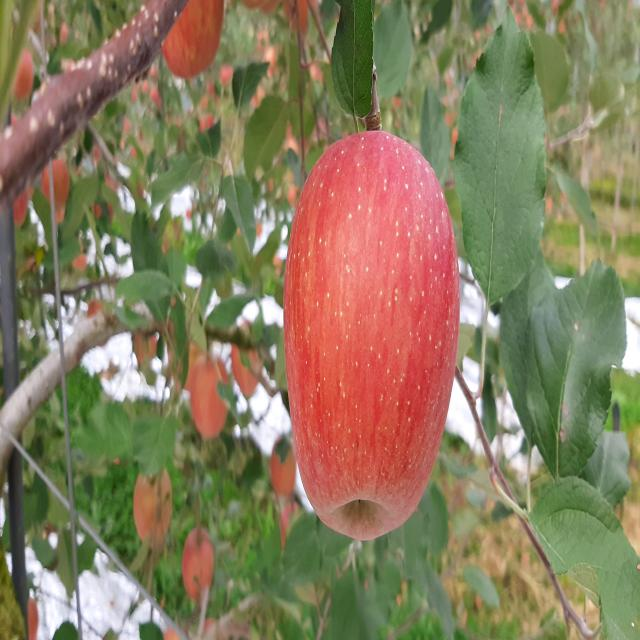fresh: (280, 122, 466, 551)
